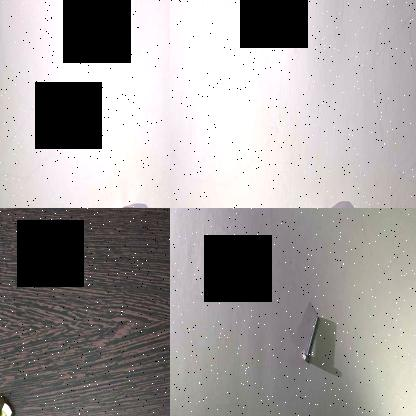Bolts: (298, 311, 323, 365), (0, 388, 16, 416)
NUTS: (110, 190, 143, 208)
